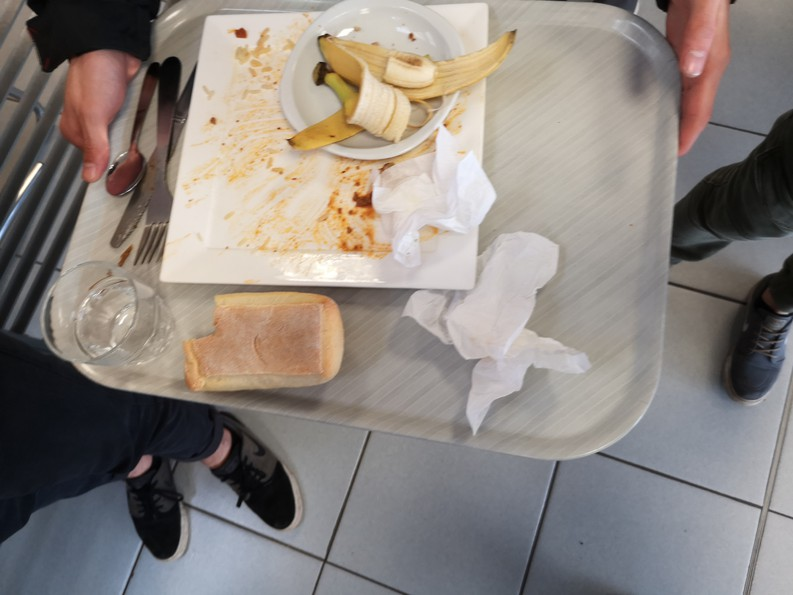cup: (31, 268, 178, 396)
cutlery: (76, 37, 215, 294)
orga: (287, 31, 483, 137), (180, 285, 349, 388)
trash: (378, 145, 582, 388)
